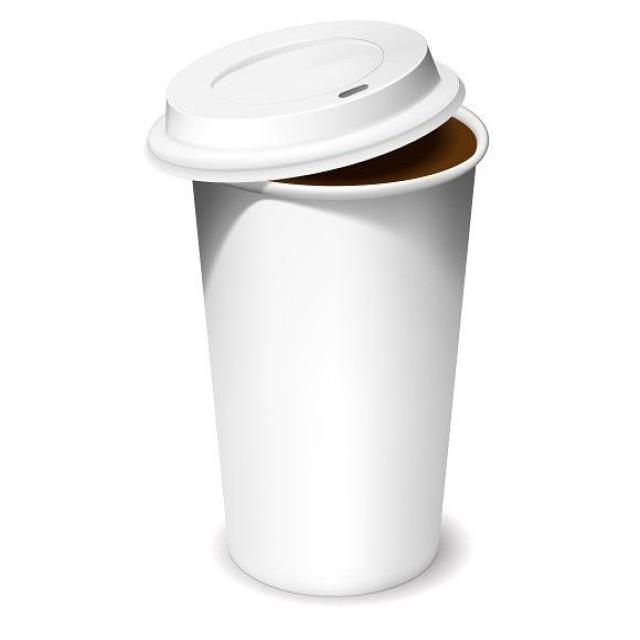paper cup: (145, 20, 489, 597)
